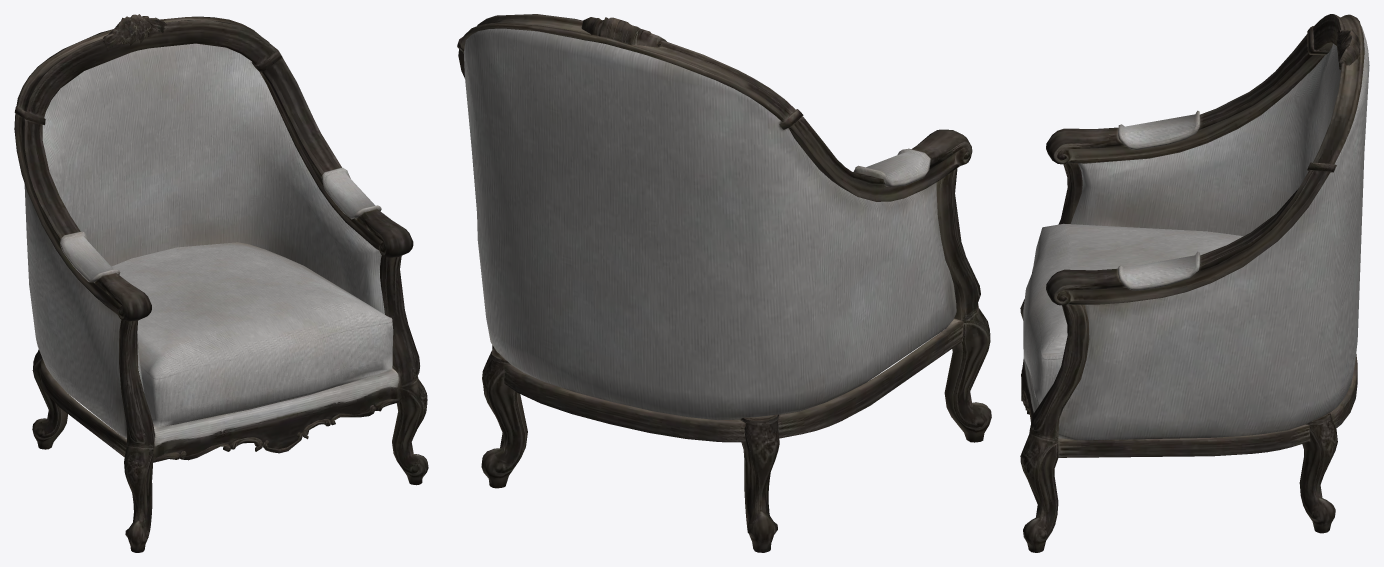
Rendered from armchair.glb.
The picture shows the model from 3 angles, left to right: view 1: azimuth 30°, elevation 25°; view 2: azimuth 150°, elevation 25°; view 3: azimuth 270°, elevation 25°; orthographic projection. The views are drawn at different scales.
Visible parts, largest first — view 1: ArmChair_01; view 2: ArmChair_01; view 3: ArmChair_01.
Part boxes in pixels (bbox=[...]): ArmChair_01: bbox=[14, 14, 428, 552]; ArmChair_01: bbox=[457, 14, 991, 552]; ArmChair_01: bbox=[1020, 14, 1369, 552].
Size of the model in its own units: 0.8483 by 1.06 by 0.7658.
Materials: 1 (1 with a texture image).
